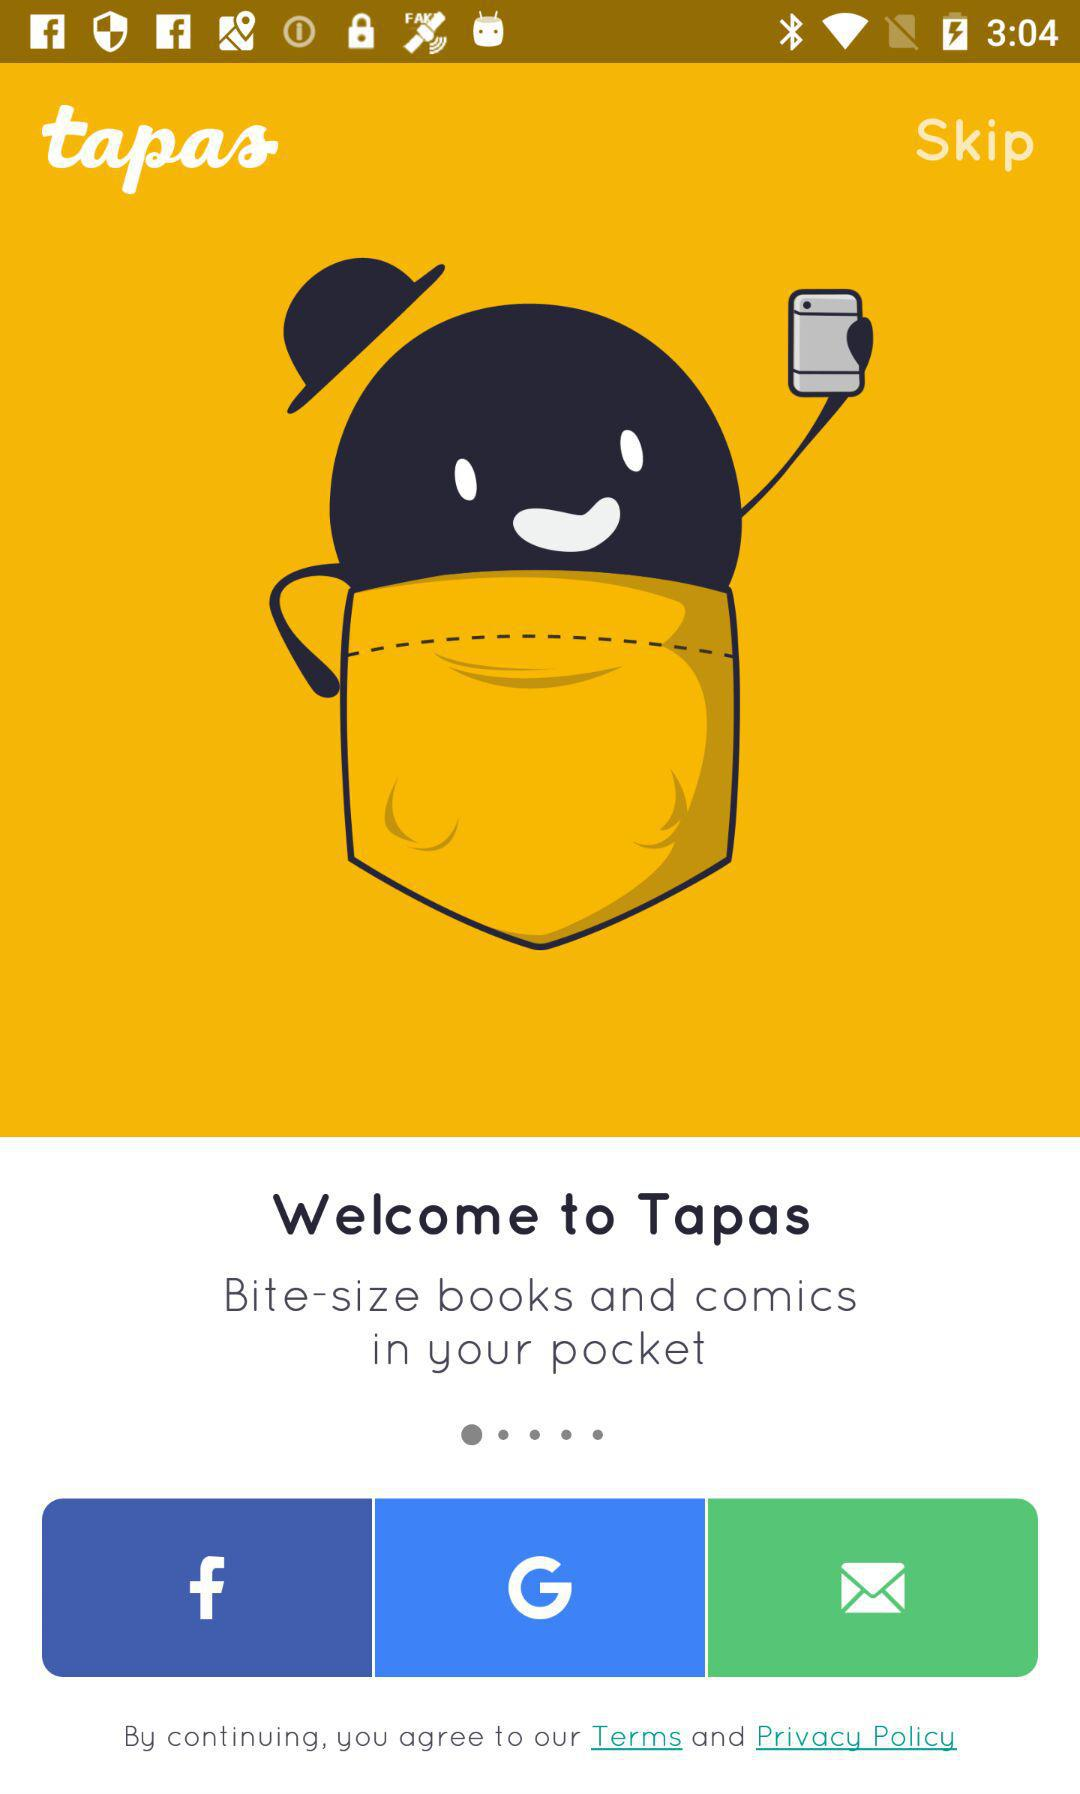Icon: (42, 1498, 373, 1677), (375, 1498, 706, 1677), (708, 1498, 1038, 1677)
Image: (268, 256, 874, 952), (42, 105, 278, 196)
PageIndicator: (460, 1422, 605, 1447)
Text: (225, 1278, 857, 1374), (273, 1192, 810, 1247), (126, 1725, 958, 1752)
TextButton: (915, 117, 1034, 174)
UpperTaskBar: (1, 1, 1080, 64)
